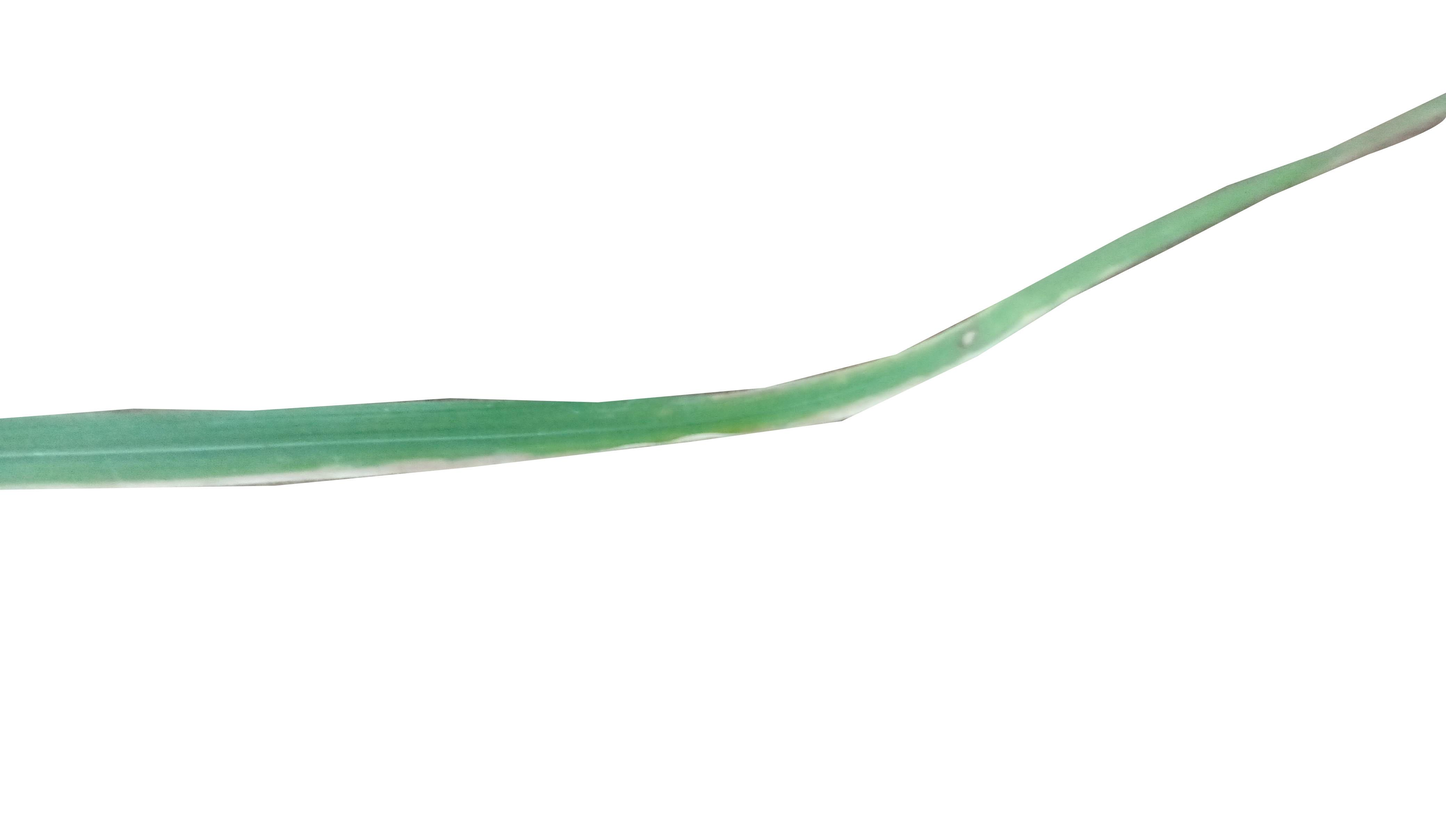Blight: (233, 455, 532, 479), (791, 379, 937, 424), (956, 321, 989, 349)
